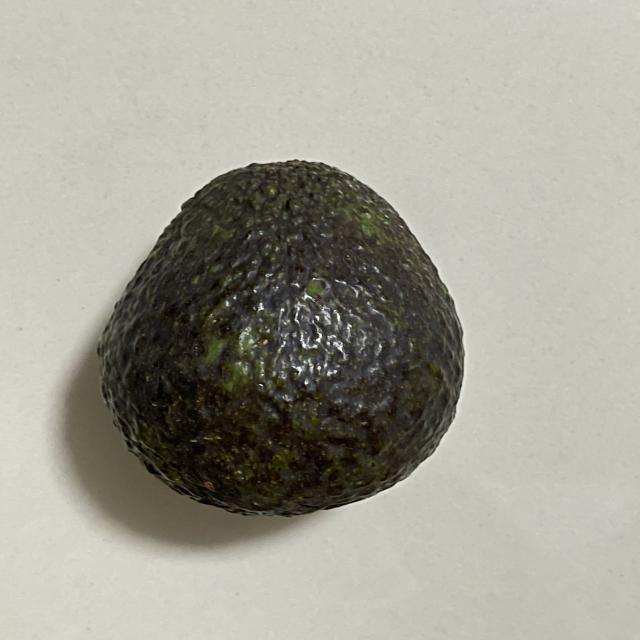avocado: (85, 148, 485, 529)
